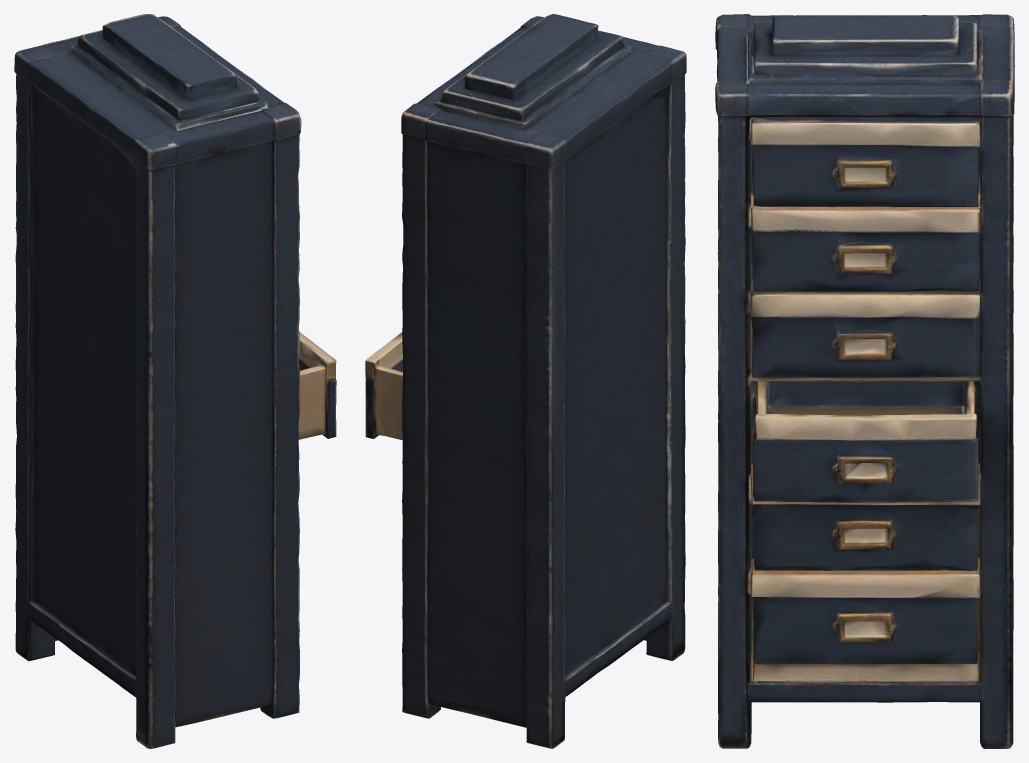
The model's file is filing_cabinet.glb.
3 renders of one model, left to right at view 1: azimuth 30°, elevation 25°; view 2: azimuth 150°, elevation 25°; view 3: azimuth 270°, elevation 25°, orthographic. The views are drawn at different scales.
Visible parts, largest first — view 1: tripo_node_7be24746-b820-4ac2-aa0a-0431149dcba5; view 2: tripo_node_7be24746-b820-4ac2-aa0a-0431149dcba5; view 3: tripo_node_7be24746-b820-4ac2-aa0a-0431149dcba5.
Boxes of the visible parts, x1,y1,x2,y2 form: tripo_node_7be24746-b820-4ac2-aa0a-0431149dcba5: (14,14,336,748); tripo_node_7be24746-b820-4ac2-aa0a-0431149dcba5: (365,14,686,748); tripo_node_7be24746-b820-4ac2-aa0a-0431149dcba5: (715,14,1014,748).
Bounding box in the file's own units: 0.3512 × 1 × 0.3947.
Materials: 1 (1 with a texture image).
